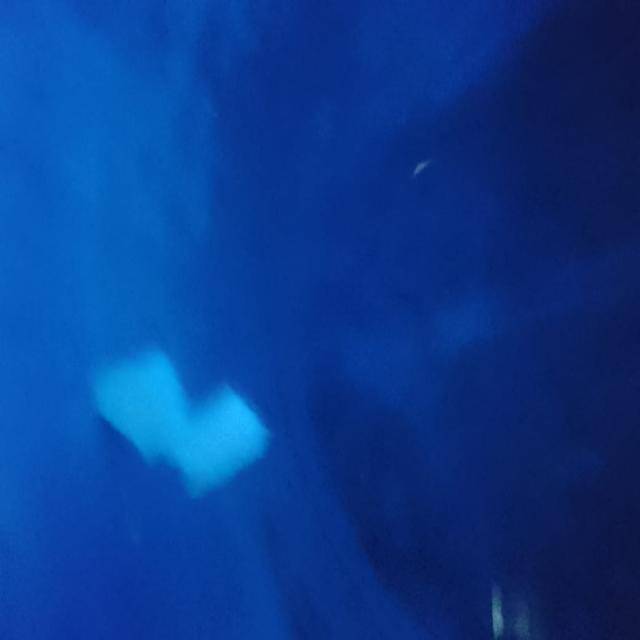litter: (88, 352, 291, 508)
